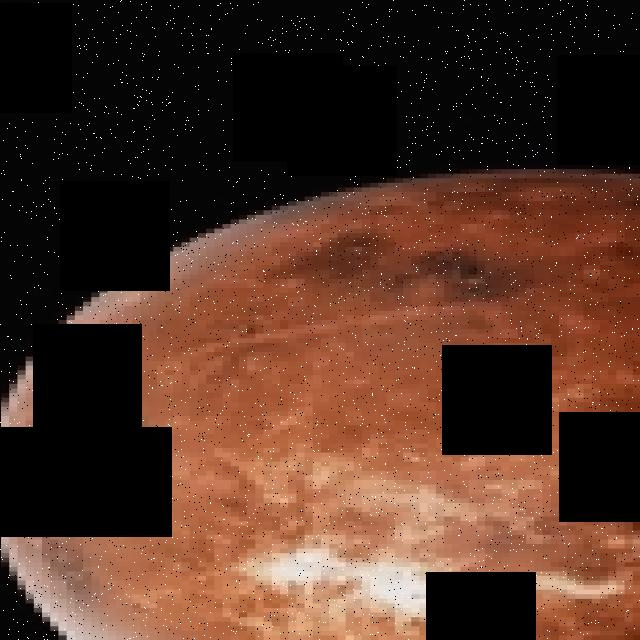Venus: (0, 169, 640, 640)
